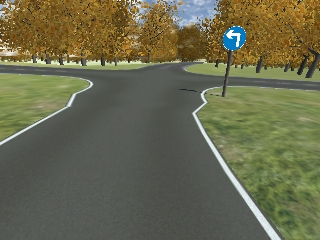left: (220, 25, 246, 50)
